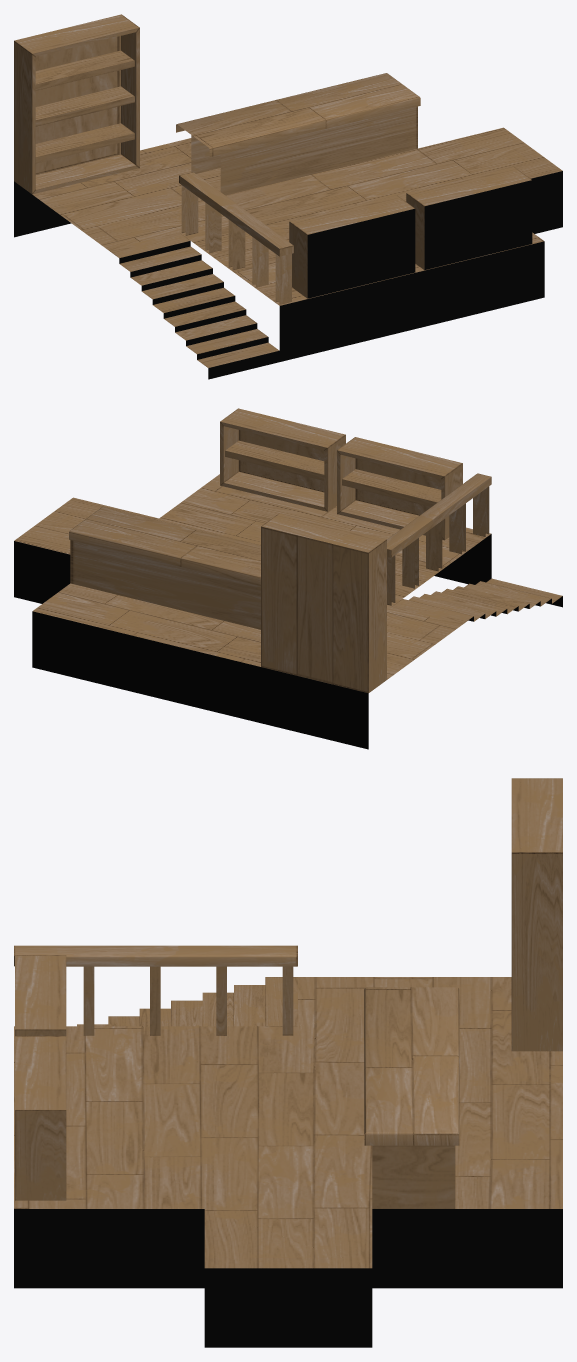
The model's file is FlowershopInterior.fbx.
The picture shows the model from 3 angles, top to bottom: view 1: azimuth 30°, elevation 25°; view 2: azimuth 150°, elevation 25°; view 3: azimuth 270°, elevation 25°; orthographic projection. The views are drawn at different scales.
Visible parts, largest first — view 1: Plane, Cube.006, Plane.001, Cube.037, Cube.004, Cube, Cube.003, Cube.001, Cube.002; view 2: Plane, Cube.006, Cube.004, Cube.037, Cube, Cube.003, Plane.001, Cube.001, Cube.002; view 3: Plane, Cube.003, Cube.006, Cube.004, Cube.002, Cube, Plane.001, Cube.037, Cube.001.
Boxes of the visible parts, left/top/right/bottom form: Plane: left=14, top=127, right=562, bottom=361; Cube.006: left=14, top=14, right=139, bottom=194; Plane.001: left=108, top=232, right=279, bottom=379; Cube.037: left=289, top=195, right=415, bottom=298; Cube.004: left=406, top=167, right=532, bottom=270; Cube: left=191, top=106, right=417, bottom=195; Cube.003: left=176, top=73, right=420, bottom=156; Cube.001: left=181, top=185, right=291, bottom=304; Cube.002: left=179, top=172, right=293, bottom=256; Plane: left=14, top=474, right=491, bottom=749; Cube.006: left=261, top=513, right=386, bottom=693; Cube.004: left=220, top=408, right=345, bottom=511; Cube.037: left=337, top=437, right=462, bottom=540; Cube: left=70, top=540, right=260, bottom=629; Cube.003: left=69, top=507, right=260, bottom=586; Plane.001: left=391, top=578, right=562, bottom=624; Cube.001: left=387, top=486, right=489, bottom=605; Cube.002: left=387, top=473, right=491, bottom=557; Plane: left=14, top=977, right=562, bottom=1347; Cube.003: left=364, top=987, right=459, bottom=1145; Cube.006: left=511, top=778, right=562, bottom=1051; Cube.004: left=15, top=1036, right=66, bottom=1200; Cube.002: left=14, top=945, right=297, bottom=966; Cube: left=372, top=1145, right=455, bottom=1208; Plane.001: left=77, top=977, right=297, bottom=1026; Cube.037: left=15, top=955, right=66, bottom=1035; Cube.001: left=83, top=966, right=293, bottom=1035.
Size of the model in its own units: 775 by 345 by 618.
